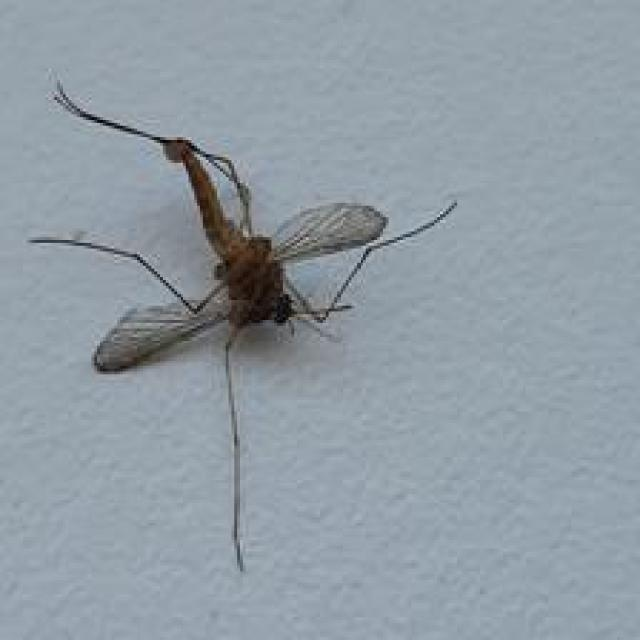Culex: (27, 76, 459, 573)
